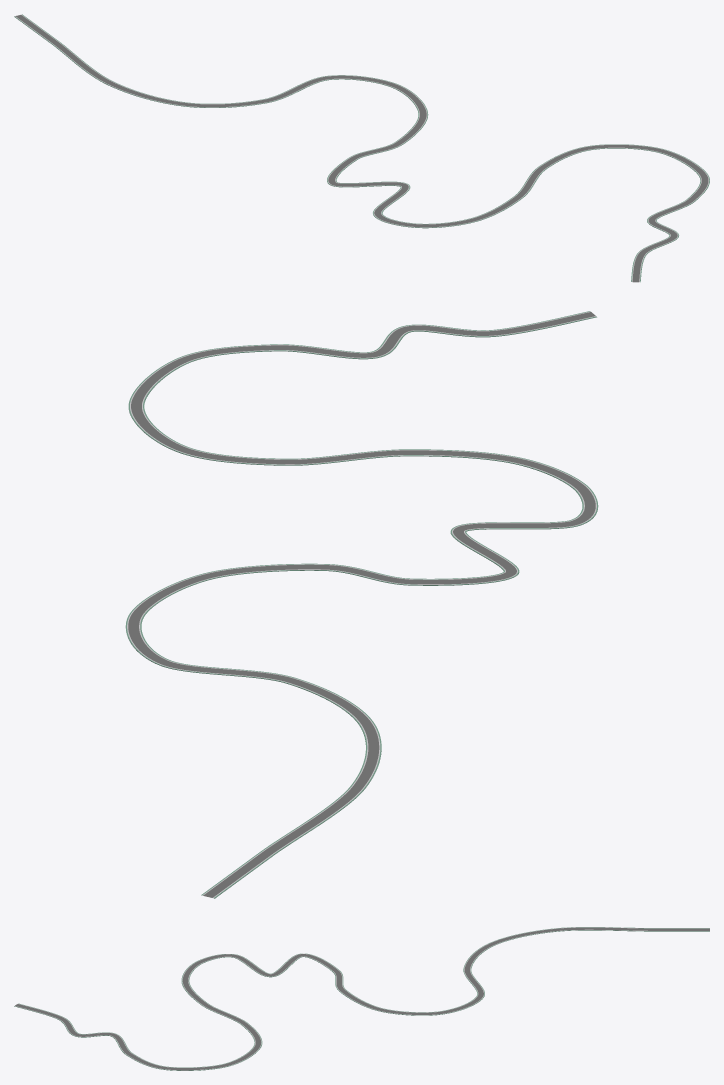
File: road_stage_harbour_lights.glb
3 renders of one model, top to bottom at view 1: azimuth 30°, elevation 25°; view 2: azimuth 150°, elevation 25°; view 3: azimuth 270°, elevation 25°, orthographic. The views are drawn at different scales.
Parts seen in each view (by area): view 1: road; view 2: road; view 3: road.
Part boxes in pixels (x1,y1,x2,y2): road: (14,14,709,282); road: (125,311,598,898); road: (14,927,709,1070).
Size of the model in its own units: 519 by 0.32 by 1062.
